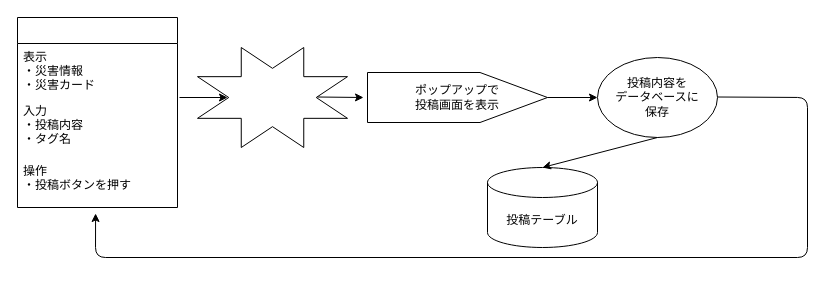
Image size: 833x283. Some labels were removed from this diagram. Each missing label, with the box of its shape:
「投稿」ボタン を押す: (196, 46, 348, 148)
メイン画面: (16, 16, 178, 208)
